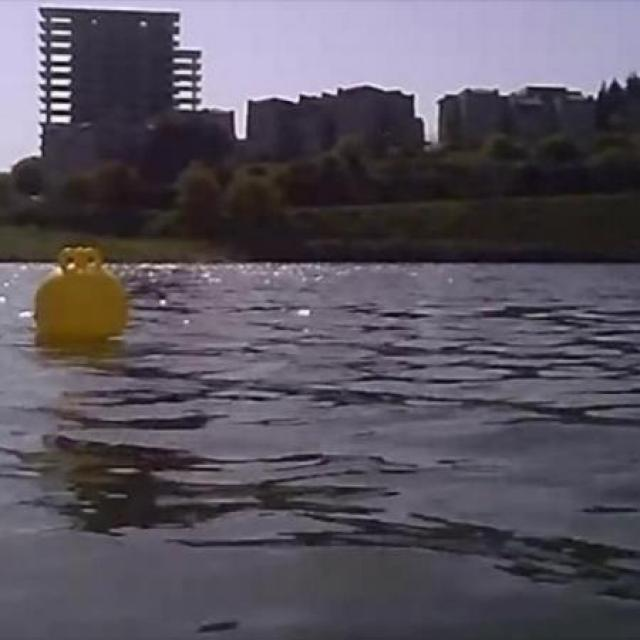buoy: (33, 247, 129, 341)
